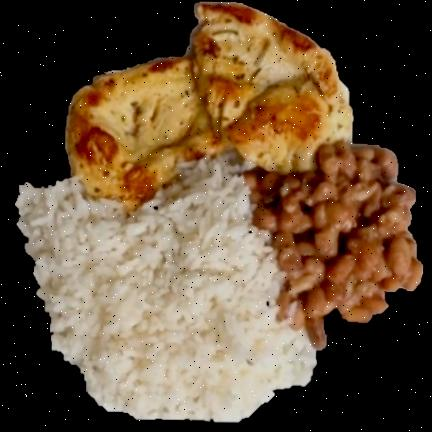beans: (244, 142, 426, 350)
chicken: (67, 4, 351, 208)
rice: (23, 158, 313, 424)
